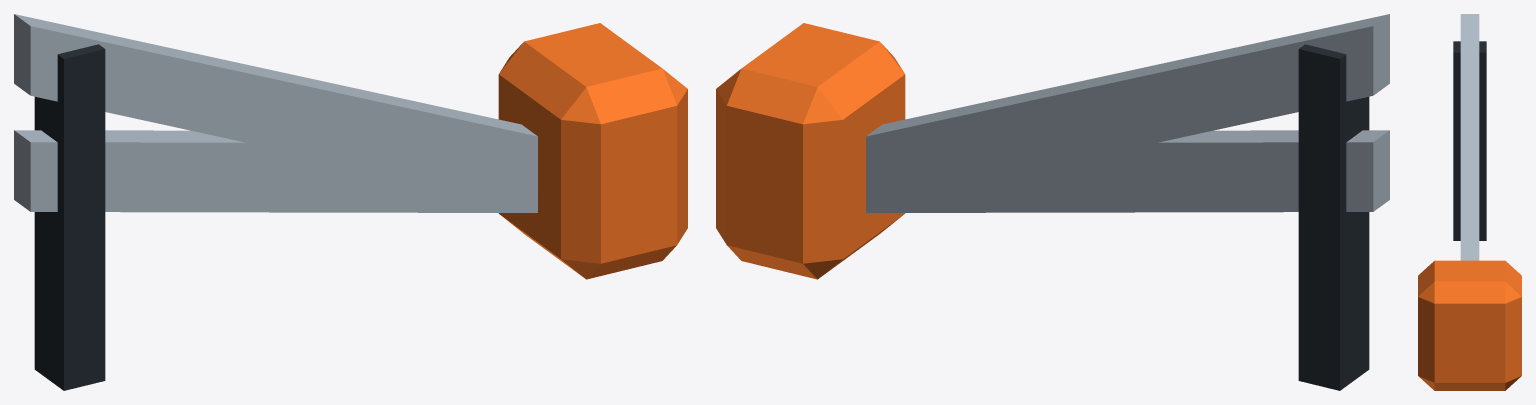
The model's file is guardrail_end.glb.
The picture shows the model from 3 angles, left to right: view 1: azimuth 30°, elevation 25°; view 2: azimuth 150°, elevation 25°; view 3: azimuth 270°, elevation 25°; orthographic projection. The views are drawn at different scales.
Visible parts, largest first — view 1: guardrail_end__static; view 2: guardrail_end__static; view 3: guardrail_end__static.
Boxes of the visible parts, left/top/right/bottom form: guardrail_end__static: left=14, top=14, right=687, bottom=390; guardrail_end__static: left=716, top=14, right=1389, bottom=390; guardrail_end__static: left=1418, top=14, right=1521, bottom=390.
Size of the model in its own units: 2 by 1.11 by 0.5.
